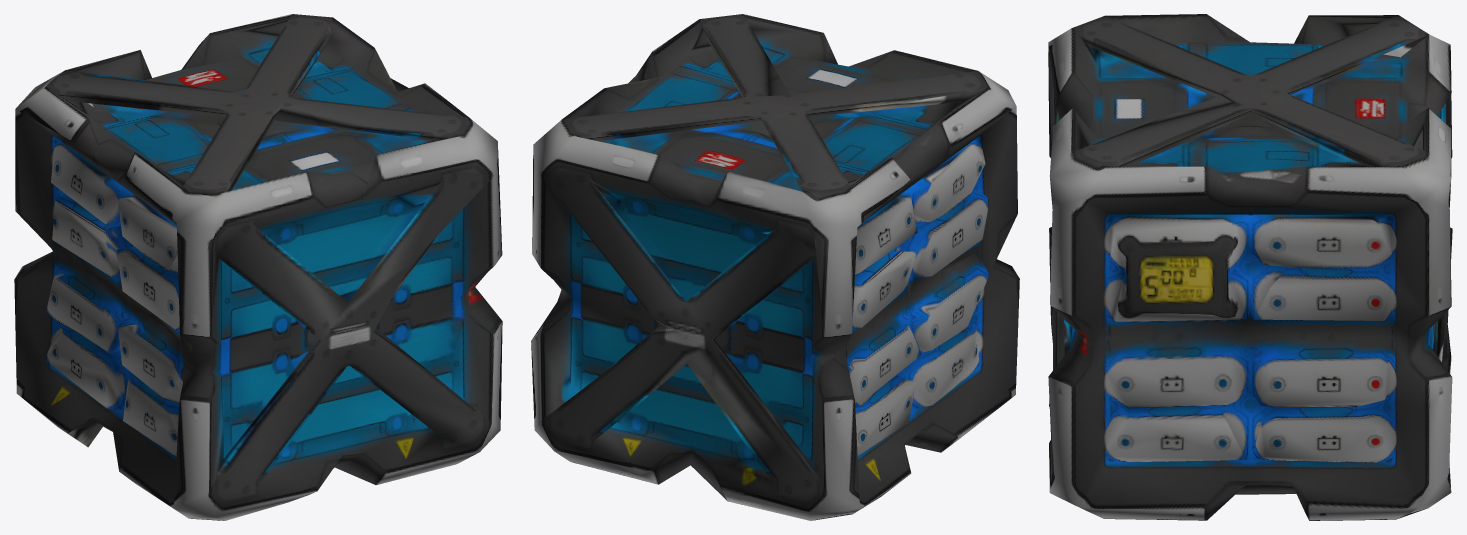
3 views of the same model, side by side, from view 1: azimuth 30°, elevation 25°; view 2: azimuth 150°, elevation 25°; view 3: azimuth 270°, elevation 25° (orthographic). The views are drawn at different scales.
Visible parts, largest first — view 1: tripo_node_c8df3b26; view 2: tripo_node_c8df3b26; view 3: tripo_node_c8df3b26.
Part boxes in pixels (<box>): tripo_node_c8df3b26: <box>14,14,502,520</box>; tripo_node_c8df3b26: <box>531,14,1019,520</box>; tripo_node_c8df3b26: <box>1048,14,1452,520</box>.
Size of the model in its own units: 0.9976 by 0.9719 by 1.
1 material, 1 textured.
